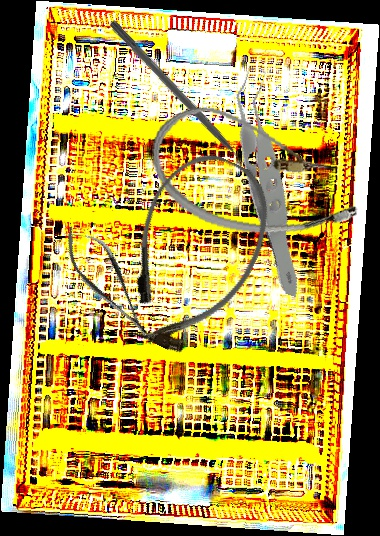Cannula: (97, 138, 290, 368), (142, 98, 371, 249)
Micro Scissor: (53, 215, 163, 351)
Pusher: (106, 18, 259, 181)
Tissue Forceps: (179, 64, 365, 298)
